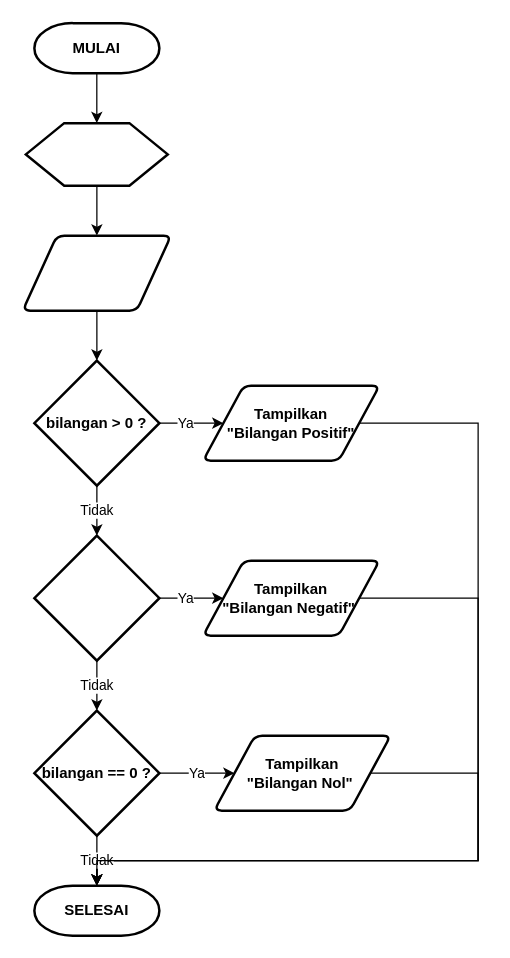
Some shapes in this 510 by 958 pixel diagram are drawn without their labels. The centre of each missing label's shape, as x and y in pixels:
bilangan : int: pixel 96 153
bilangan < 0 ?: pixel 96 597
Masukan bilangan: pixel 96 272
